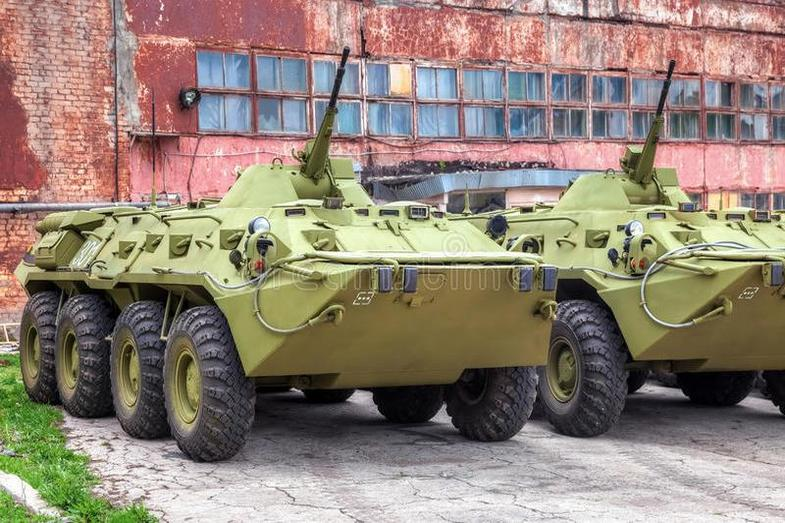btr: (26, 152, 550, 441)
